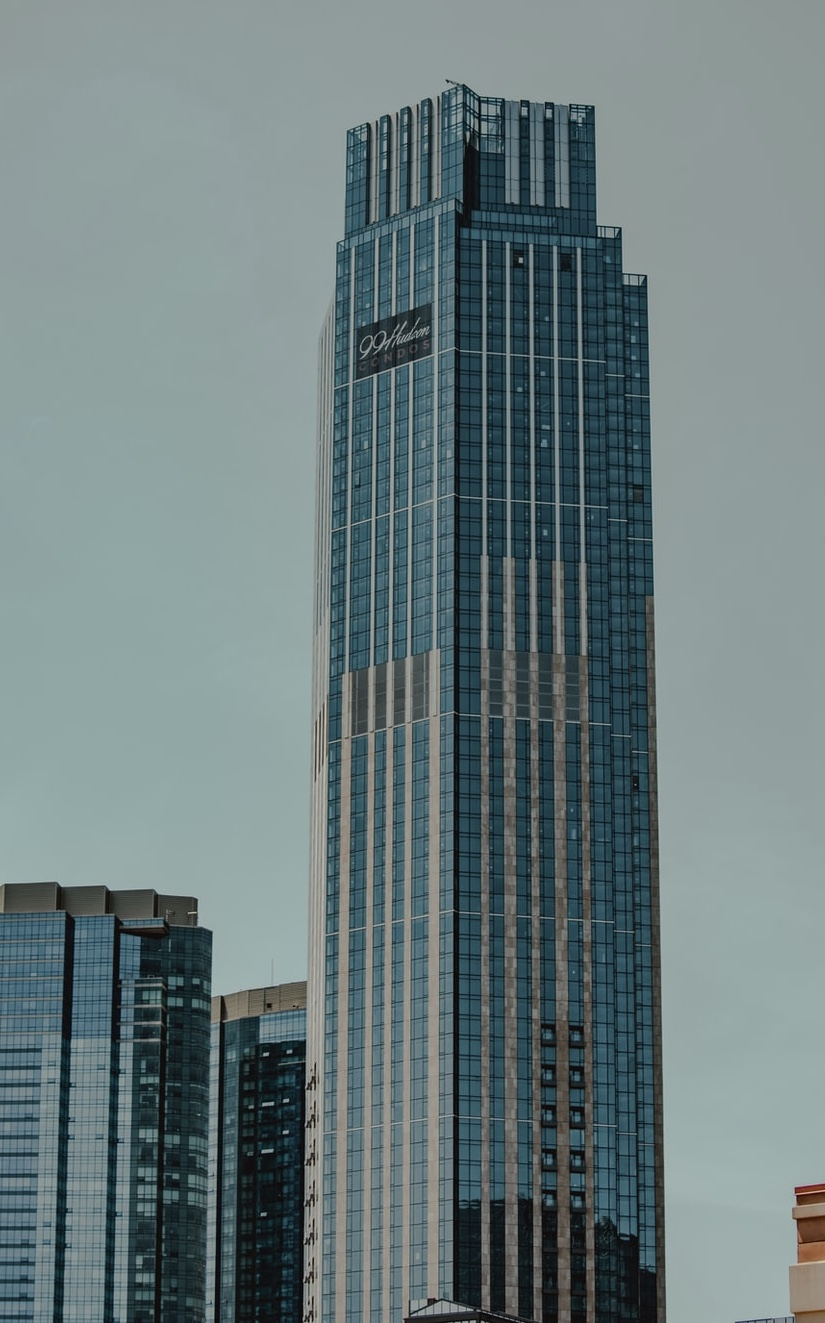Sky Building: (303, 59, 682, 1286), (23, 842, 239, 1305)
